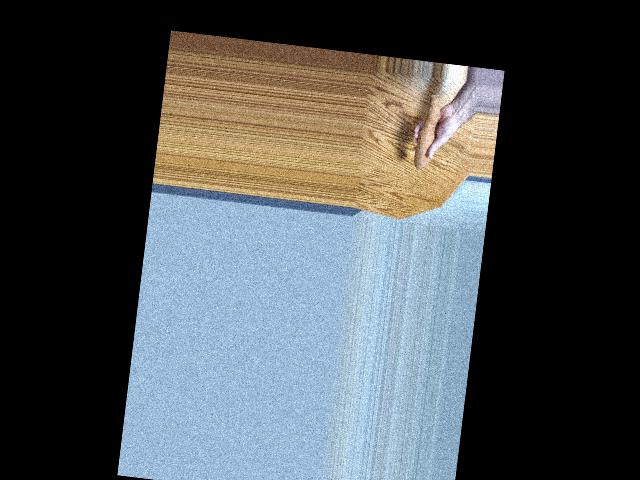sweet_potato: (410, 89, 443, 173)
